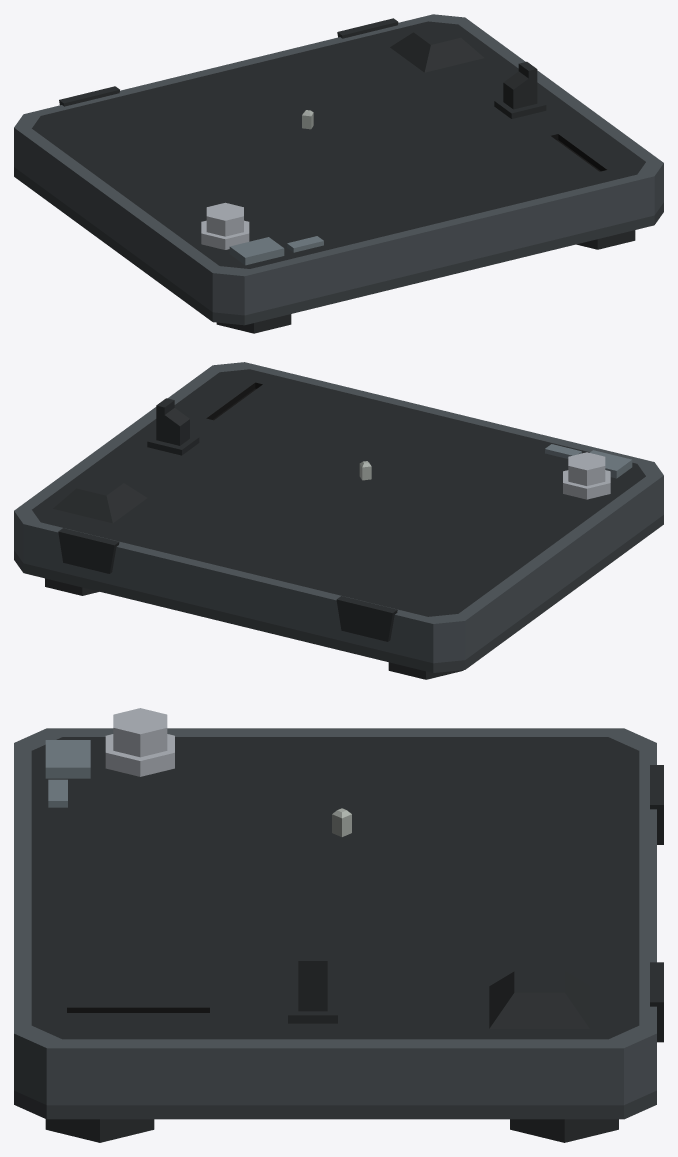
File: SM_Prop_DJ_Turntable_01.obj
The picture shows the model from 3 angles, top to bottom: view 1: azimuth 30°, elevation 25°; view 2: azimuth 150°, elevation 25°; view 3: azimuth 270°, elevation 25°; orthographic projection. The views are drawn at different scales.
Visible parts, largest first — view 1: SM_Prop_DJ_Turntable_01_0; view 2: SM_Prop_DJ_Turntable_01_0; view 3: SM_Prop_DJ_Turntable_01_0.
Part boxes in pixels (x1,y1,x2,y2): SM_Prop_DJ_Turntable_01_0: (14,14,663,333); SM_Prop_DJ_Turntable_01_0: (14,362,663,679); SM_Prop_DJ_Turntable_01_0: (14,708,663,1142).
Bounding box in the file's own units: 0.7107 × 0.1666 × 0.6102.
1 material, 1 textured.
